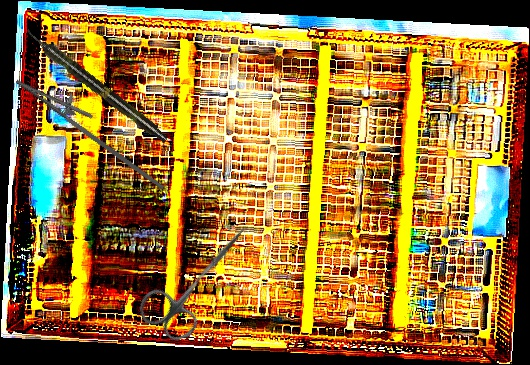Handpiece: (22, 25, 171, 146)
Iris Scissors: (132, 205, 268, 350)
Needle Holder: (4, 66, 182, 191)
